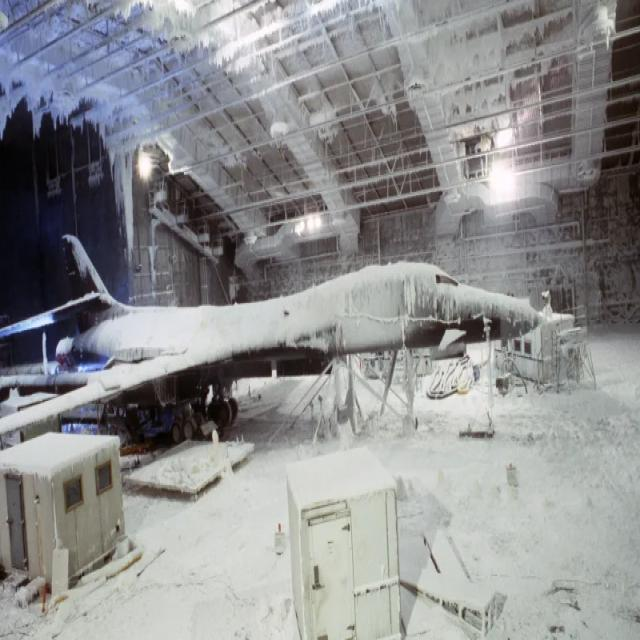MIL_Plane: (0, 227, 541, 439)
